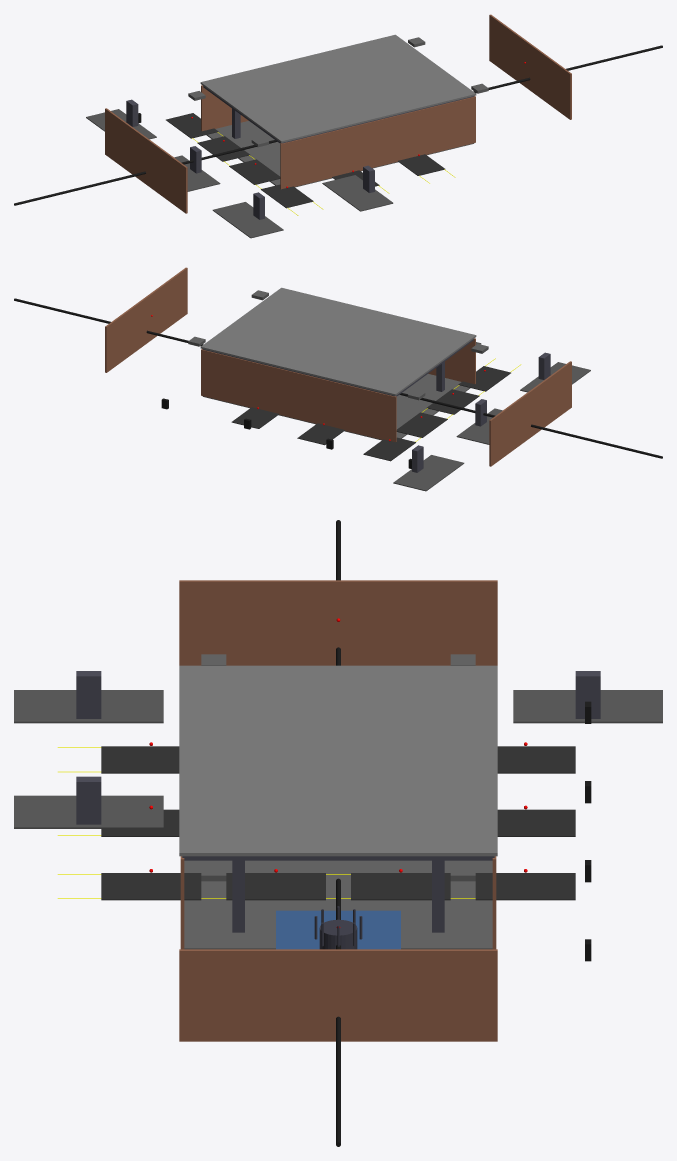
Rendered from enhanced_barn_model.obj.
The picture shows the model from 3 angles, top to bottom: view 1: azimuth 30°, elevation 25°; view 2: azimuth 150°, elevation 25°; view 3: azimuth 270°, elevation 25°; orthographic projection. The views are drawn at different scales.
Parts seen in each view (by area): view 1: Roof_Cube.009, Wall_Front_Cube.010, Wall_Left_Cube.012, Wall_Right_Cube.013, Floor_Cube.001, Maintenance_Bay_1_Cube.050, Maintenance_Bay_4_Cube.056, Wall_Back_Cube.011, Parking_Slot_0_1_Cube.017, Parking_Slot_0_0_Cube.014, Parking_Slot_0_2_Cube.020, Main_Conduit_Left_Cylinder.009 (+6 smaller); view 2: Roof_Cube.009, Wall_Back_Cube.011, Wall_Left_Cube.012, Wall_Right_Cube.013, Floor_Cube.001, Maintenance_Bay_3_Cube.054, Wall_Front_Cube.010, Parking_Slot_0_2_Cube.020, Parking_Slot_0_3_Cube.023, Parking_Slot_0_1_Cube.017, Main_Conduit_Left_Cylinder.009, Parking_Slot_0_0_Cube.014 (+6 smaller); view 3: Roof_Cube.009, Wall_Right_Cube.013, Wall_Left_Cube.012, Floor_Cube.001, Maintenance_Bay_1_Cube.050, Maintenance_Bay_3_Cube.054, Maintenance_Bay_4_Cube.056, Consolidation_Zone_Cube.058, Parking_Slot_2_0_Cube.038, Parking_Slot_2_3_Cube.047, Parking_Slot_2_1_Cube.041, Parking_Slot_2_2_Cube.044 (+11 smaller).
Boxes of the visible parts, x1,y1,x2,y2 form: Roof_Cube.009: (200, 34, 476, 142); Wall_Front_Cube.010: (280, 96, 475, 189); Wall_Left_Cube.012: (105, 108, 187, 213); Wall_Right_Cube.013: (489, 14, 571, 119); Floor_Cube.001: (206, 121, 474, 187); Maintenance_Bay_1_Cube.050: (212, 202, 283, 238); Maintenance_Bay_4_Cube.056: (322, 175, 393, 211); Wall_Back_Cube.011: (201, 85, 248, 131); Parking_Slot_0_1_Cube.017: (229, 159, 280, 184); Parking_Slot_0_0_Cube.014: (261, 184, 313, 208); Parking_Slot_0_2_Cube.020: (197, 136, 249, 161); Main_Conduit_Left_Cylinder.009: (14, 140, 277, 205); Roof_Cube.009: (200, 287, 476, 395); Wall_Back_Cube.011: (201, 349, 396, 442); Wall_Left_Cube.012: (489, 361, 571, 466); Wall_Right_Cube.013: (105, 267, 187, 372); Floor_Cube.001: (202, 374, 470, 440); Maintenance_Bay_3_Cube.054: (393, 455, 464, 491); Wall_Front_Cube.010: (428, 338, 475, 384); Parking_Slot_0_2_Cube.020: (396, 412, 447, 437); Parking_Slot_0_3_Cube.023: (363, 437, 415, 461); Parking_Slot_0_1_Cube.017: (427, 389, 479, 414); Main_Conduit_Left_Cylinder.009: (399, 393, 662, 458); Parking_Slot_0_0_Cube.014: (458, 366, 510, 391); Roof_Cube.009: (179, 665, 497, 856); Wall_Right_Cube.013: (179, 949, 497, 1041); Wall_Left_Cube.012: (179, 580, 497, 665); Floor_Cube.001: (184, 860, 492, 949); Maintenance_Bay_1_Cube.050: (14, 690, 163, 723); Maintenance_Bay_3_Cube.054: (513, 690, 662, 723); Maintenance_Bay_4_Cube.056: (14, 795, 163, 828); Consolidation_Zone_Cube.058: (276, 910, 400, 949); Parking_Slot_2_0_Cube.038: (101, 873, 201, 900); Parking_Slot_2_3_Cube.047: (475, 873, 575, 900); Parking_Slot_2_1_Cube.041: (226, 873, 325, 900); Parking_Slot_2_2_Cube.044: (351, 873, 450, 900).
Size of the model in its own units: 118 by 8.75 by 52.
